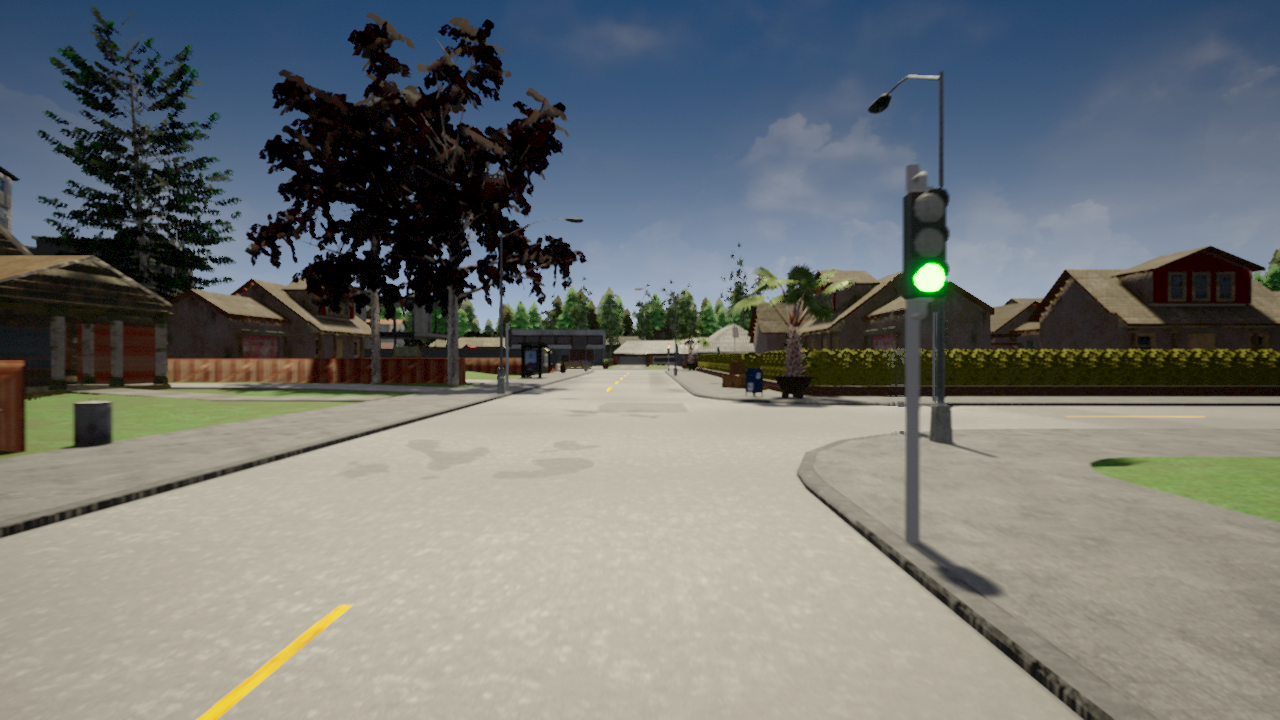green: (899, 187, 948, 301)
